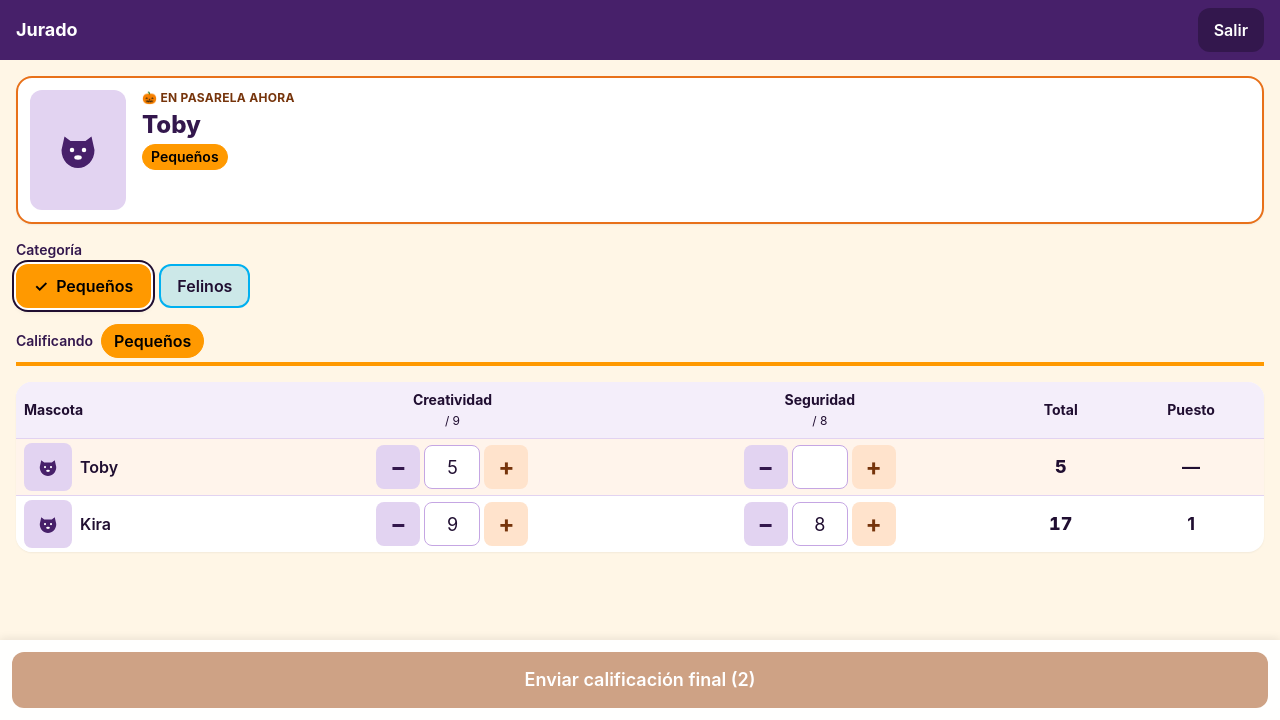
una recarga pedida antes de editar no pisa la celda ya escrita/guardada (última escritura local gana)
The width and height of the screenshot is (1280, 720).
In the field with test id "celda-t-2": (820, 467) [792,445,848,489], type "3"
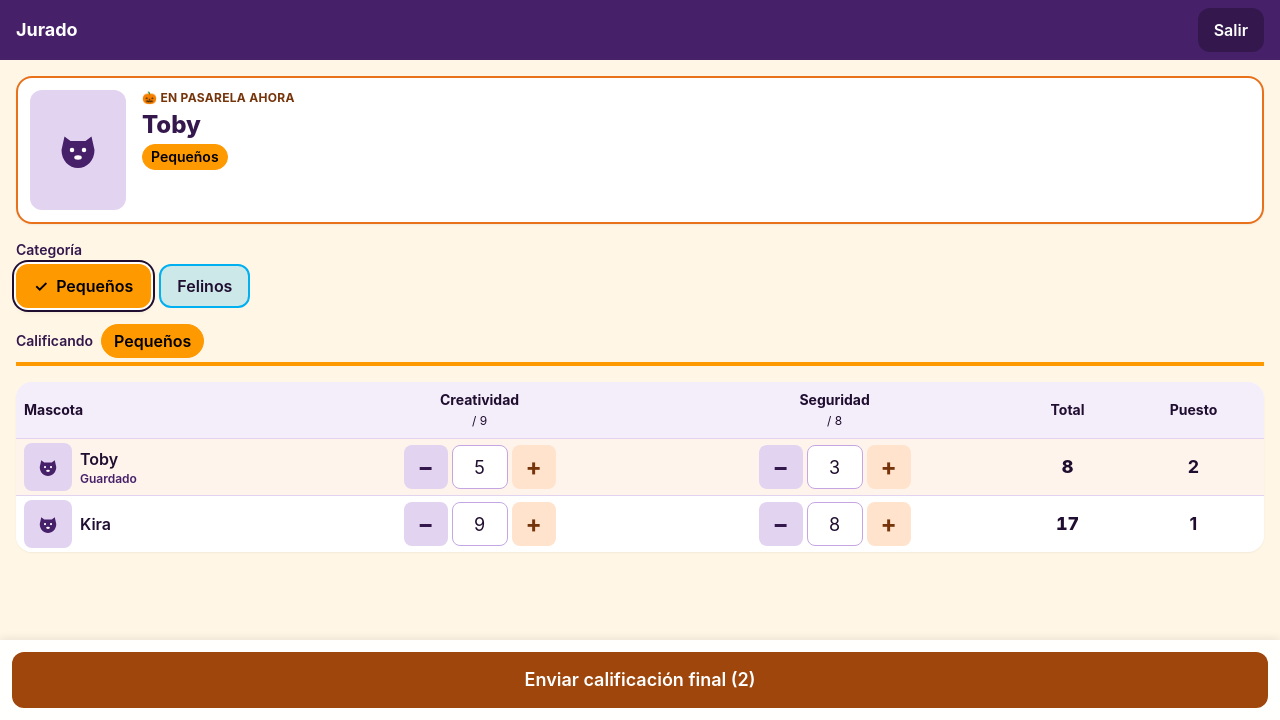
Expected: the cell with test id "total-t" reads "8", [1062,456,1073,477]
